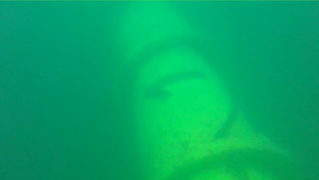1: (143, 69, 208, 100)
pipe: (110, 1, 298, 179)
